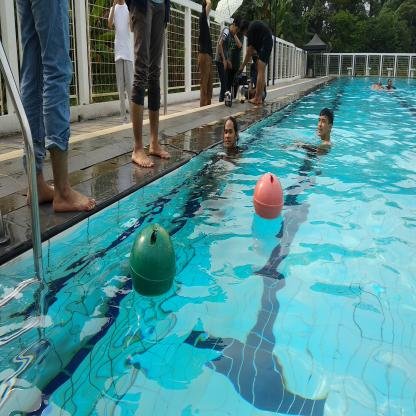green_buoy: (126, 211, 181, 310)
red_buoy: (250, 166, 290, 228)
